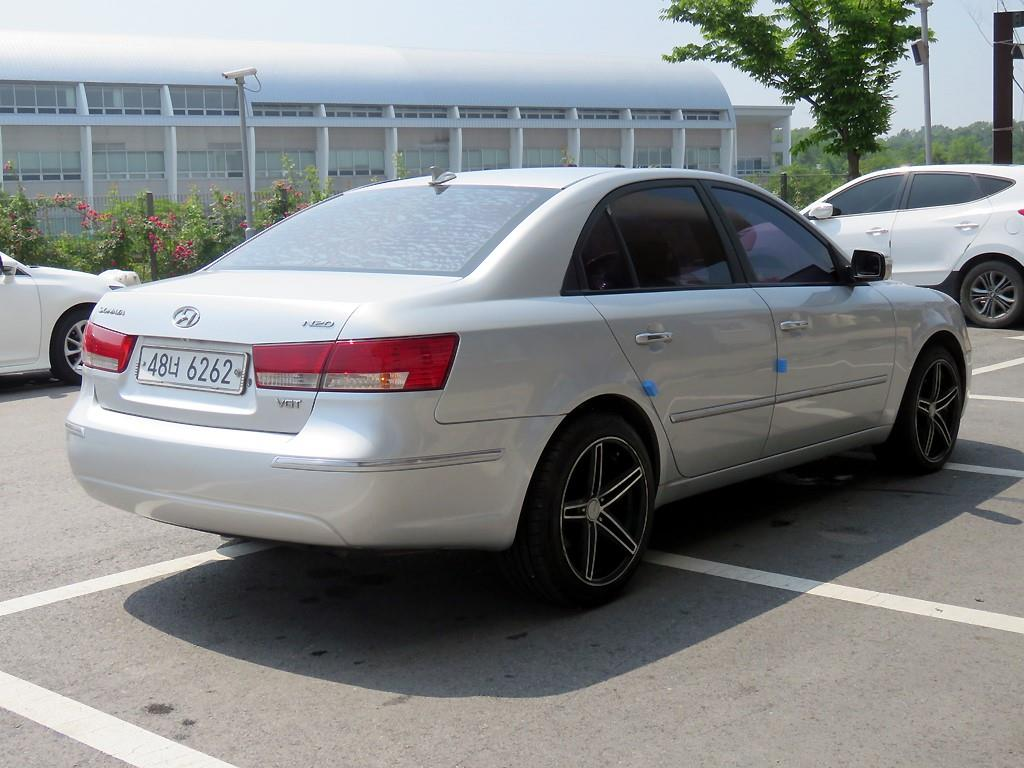plate: (138, 345, 245, 390)
